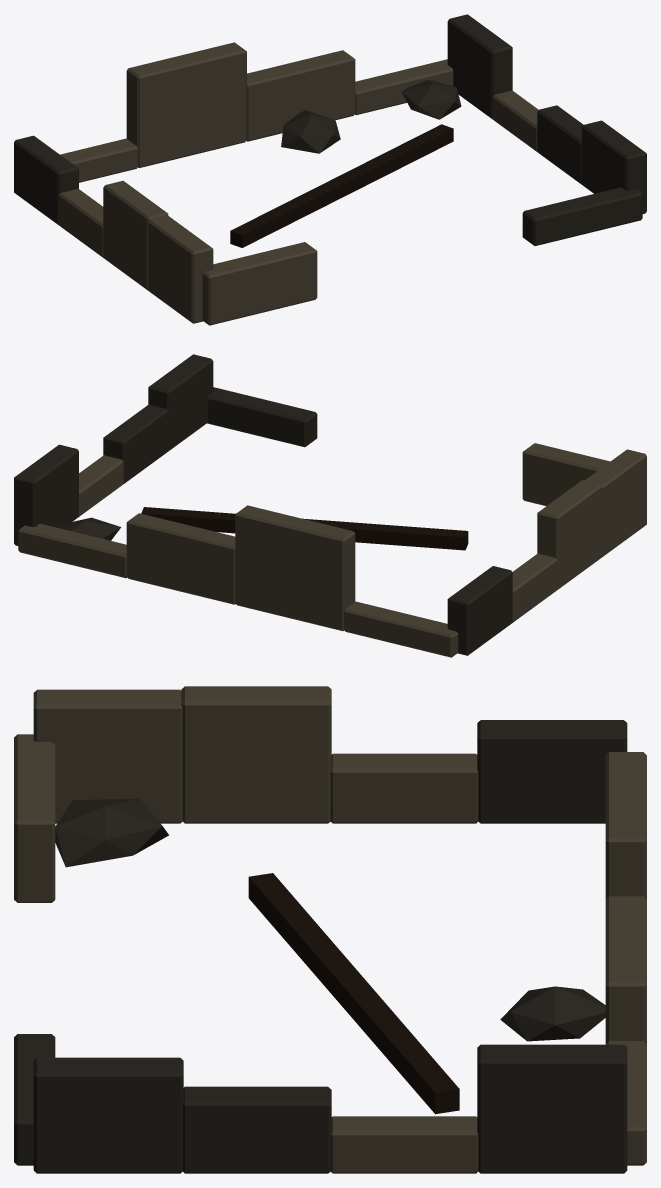
Rendered from ruin.fbx.
The picture shows the model from 3 angles, top to bottom: view 1: azimuth 30°, elevation 25°; view 2: azimuth 150°, elevation 25°; view 3: azimuth 270°, elevation 25°; orthographic projection. The views are drawn at different scales.
Visible parts, largest first — view 1: ruin; view 2: ruin; view 3: ruin.
Part boxes in pixels (x1=…): ruin: x1=14, y1=14, x2=646, y2=325; ruin: x1=14, y1=354, x2=646, y2=657; ruin: x1=14, y1=686, x2=646, y2=1173.
Bounding box in the file's own units: 7.35 × 1.51 × 5.35.
